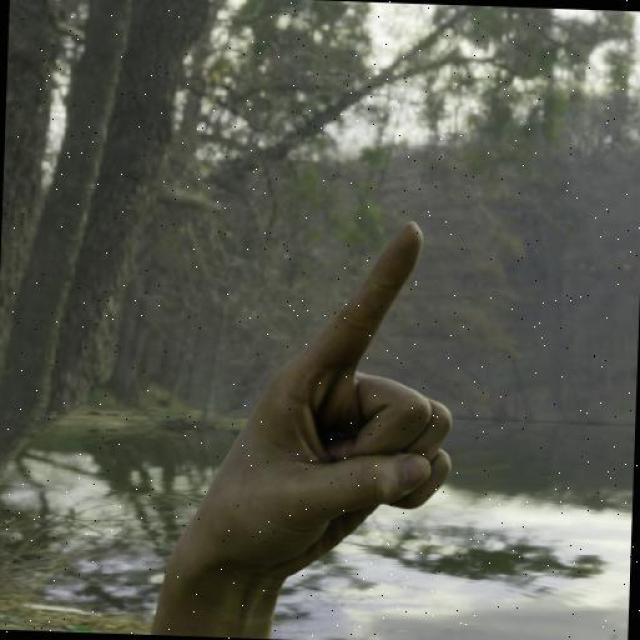Z: (195, 212, 462, 598)
